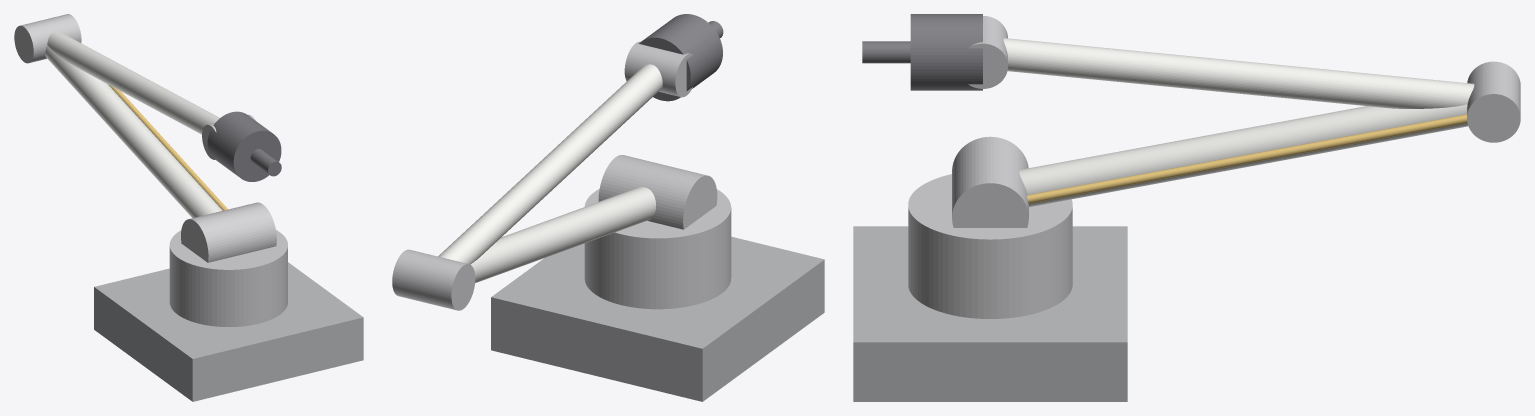
The model's file is rover30_robotic_arm_s.glb.
The picture shows the model from 3 angles, left to right: view 1: azimuth 30°, elevation 25°; view 2: azimuth 150°, elevation 25°; view 3: azimuth 270°, elevation 25°; orthographic projection. The views are drawn at different scales.
Parts seen in each view (by area): view 1: base, arm_turret, arm_link1, arm_link2, arm_tool, arm_elbow, arm_cable; view 2: base, arm_turret, arm_link2, arm_link1, arm_elbow, arm_tool, arm_wrist; view 3: base, arm_turret, arm_link2, arm_link1, arm_tool, arm_cable, arm_elbow, arm_wrist.
Part boxes in pixels (x1,y1,x2,y2): base: (94, 262, 363, 401); arm_turret: (169, 202, 287, 326); arm_link1: (45, 45, 222, 217); arm_link2: (47, 31, 219, 134); arm_tool: (207, 111, 281, 181); arm_elbow: (14, 14, 81, 63); arm_cable: (109, 85, 227, 210); base: (491, 236, 824, 401); arm_turret: (584, 155, 731, 309); arm_link2: (438, 64, 662, 264); arm_link1: (470, 187, 655, 283); arm_elbow: (392, 249, 475, 310); arm_tool: (639, 14, 723, 101); arm_wrist: (624, 41, 692, 97); base: (853, 226, 1127, 401); arm_turret: (908, 136, 1072, 318); arm_link2: (1003, 38, 1474, 108); arm_link1: (1019, 104, 1467, 206); arm_tool: (862, 14, 982, 90); arm_cable: (1027, 114, 1467, 203); arm_elbow: (1467, 61, 1520, 142); arm_wrist: (968, 16, 1007, 88).
Size of the model in its own units: 0.5 by 0.6562 by 1.22.
